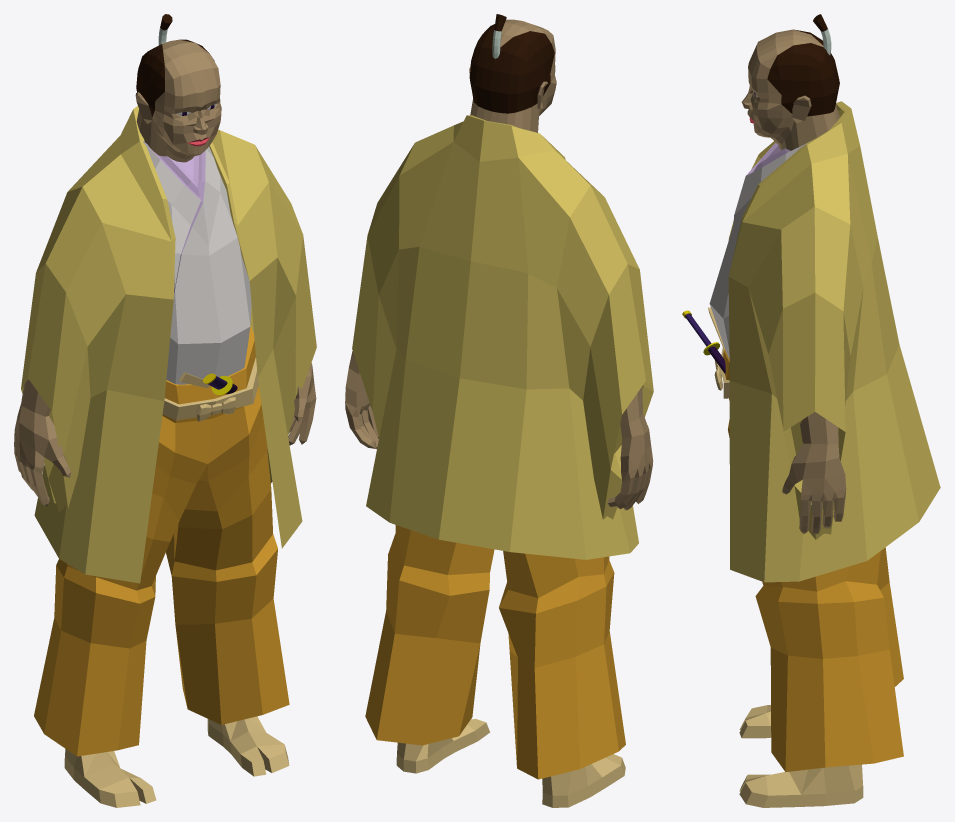
3 views of the same model, side by side, from view 1: azimuth 30°, elevation 25°; view 2: azimuth 150°, elevation 25°; view 3: azimuth 270°, elevation 25° (orthographic).
Visible parts, largest first — view 1: dmy00; view 2: dmy00; view 3: dmy00.
Boxes of the visible parts, left/top/right/bottom form: dmy00: left=14, top=14, right=316, bottom=807; dmy00: left=345, top=14, right=653, bottom=807; dmy00: left=682, top=14, right=940, bottom=807.
Bounding box in the file's own units: 76.95 × 190 × 59.48.
